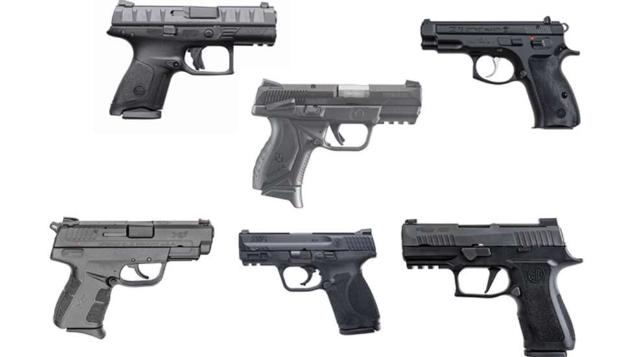handgun: (400, 216, 588, 356), (248, 74, 424, 212), (48, 213, 218, 343), (100, 0, 280, 122), (420, 14, 584, 132), (236, 227, 384, 339)
